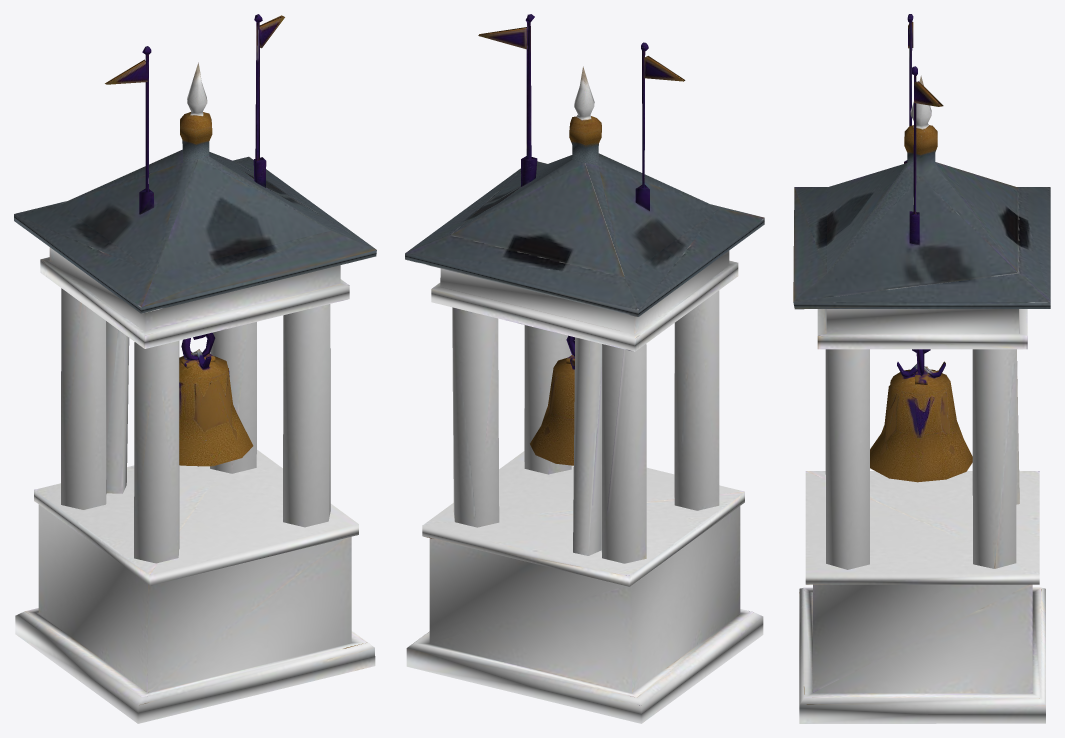
Rendered from bell_tower.glb.
3 views of the same model, side by side, from view 1: azimuth 30°, elevation 25°; view 2: azimuth 150°, elevation 25°; view 3: azimuth 270°, elevation 25° (orthographic).
Size of the model in its own units: 2.39 by 6 by 2.23.
1 material, 1 textured.
